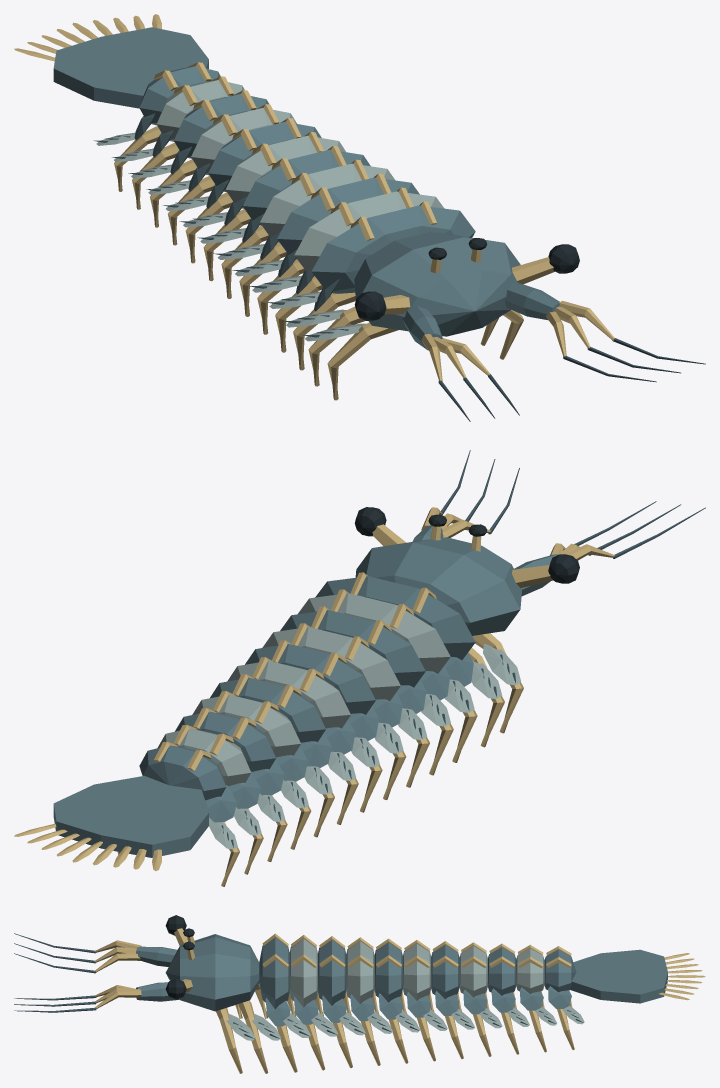
Rendered from alalcomenaeus.glb.
3 views of the same model, one above another, from view 1: azimuth 30°, elevation 25°; view 2: azimuth 150°, elevation 25°; view 3: azimuth 270°, elevation 25° (orthographic). The views are drawn at different scales.
Visible parts, largest first — view 1: alalcomenaeus-labeled-solids; view 2: alalcomenaeus-labeled-solids; view 3: alalcomenaeus-labeled-solids.
Part boxes in pixels (x1=…): alalcomenaeus-labeled-solids: x1=14, y1=14, x2=705, y2=421; alalcomenaeus-labeled-solids: x1=14, y1=450, x2=705, y2=886; alalcomenaeus-labeled-solids: x1=14, y1=915, x2=705, y2=1073.
Bounding box in the file's own units: 0.0129 × 0.00866 × 0.0489.
